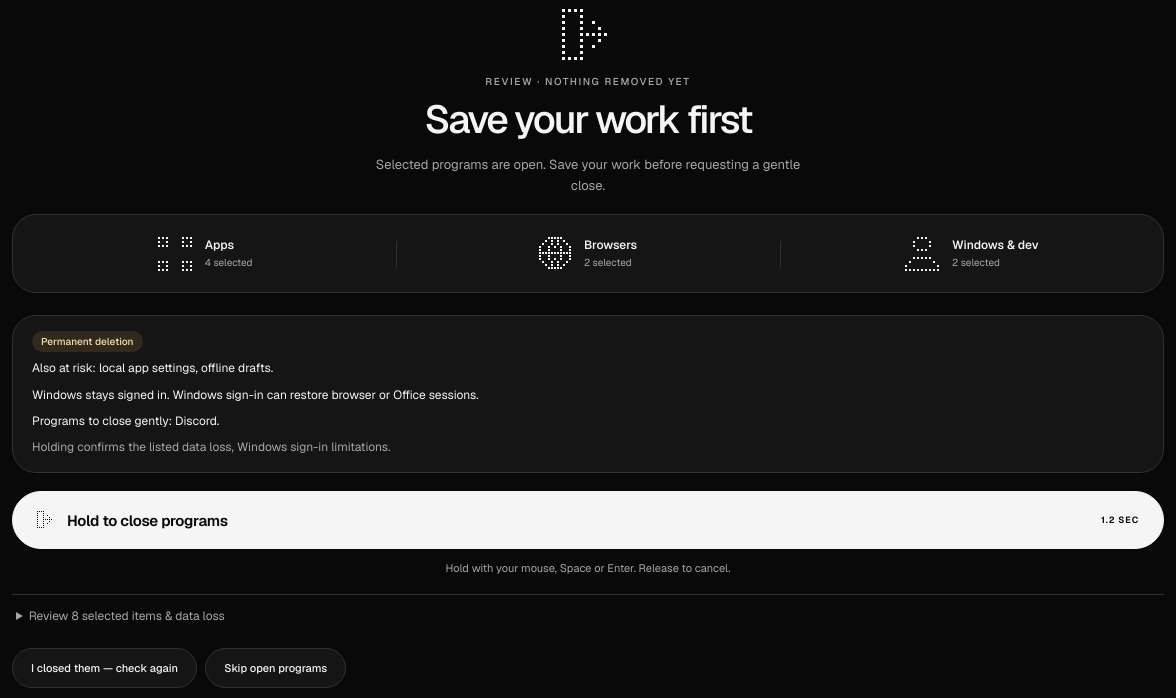
it: can recheck manually closed programs without requesting closure
This screenshot has width=1176, height=698.
Click the button "I closed them — check again". click: (105,668)
box: x1=12 y1=648 x2=197 y2=688
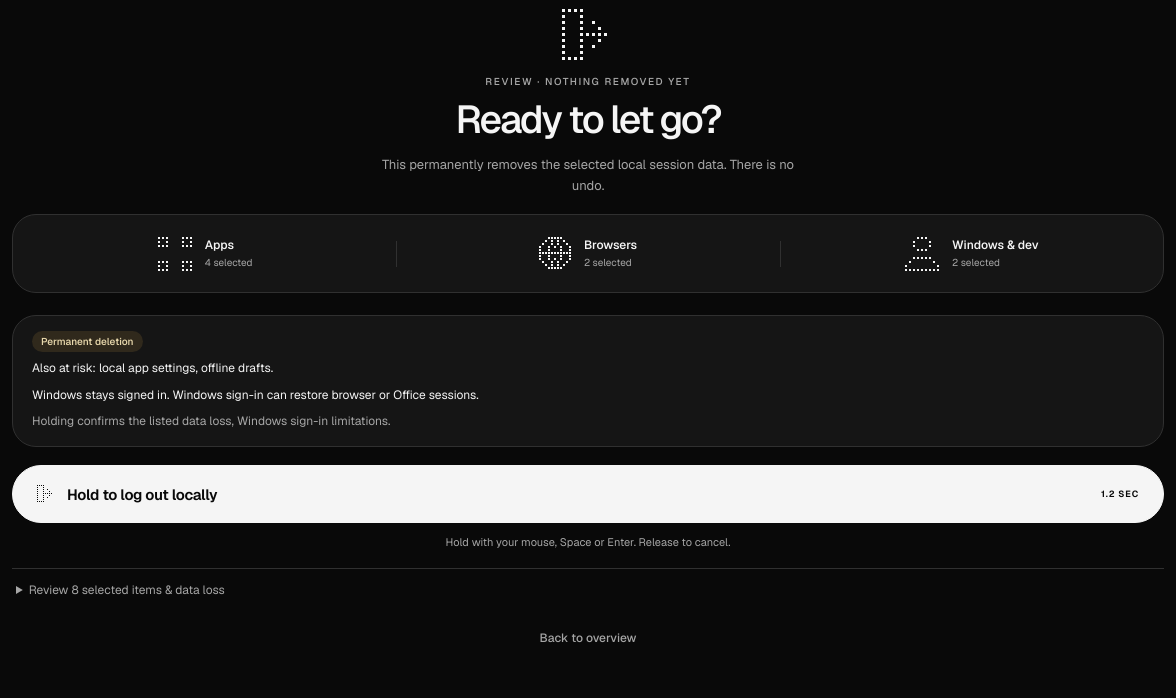
Check: the button "Hold to log out locally 1.2 SEC" is shown, box x1=12 y1=465 x2=1164 y2=523
